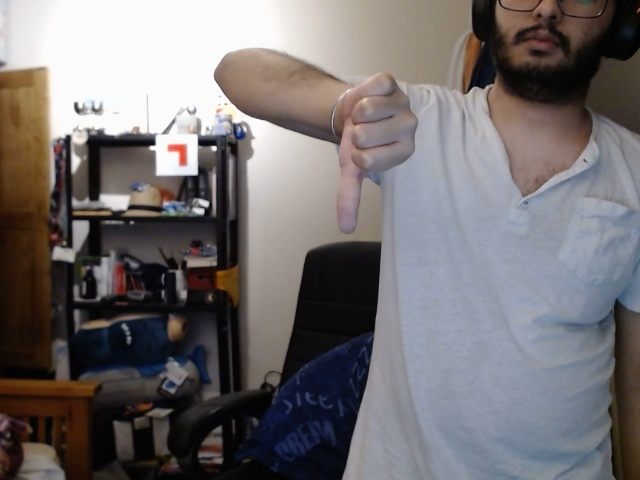Thumbs down: (323, 61, 434, 253)
